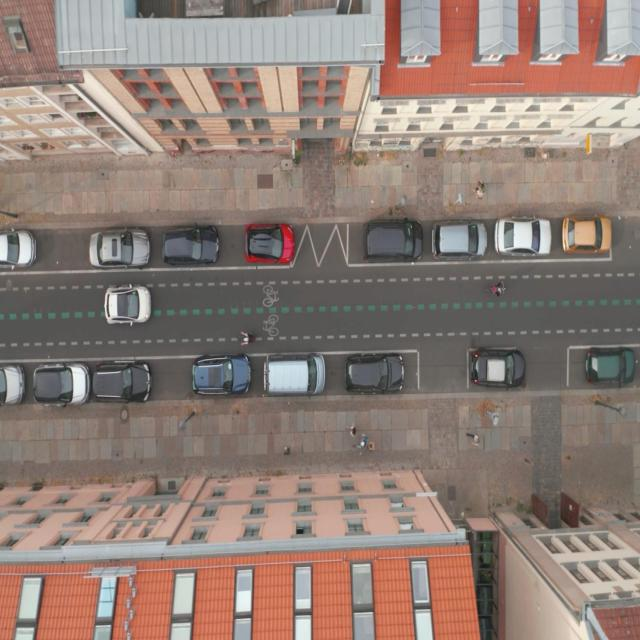Car: (190, 352, 253, 398), (344, 351, 406, 396), (160, 223, 221, 267), (431, 216, 488, 263), (88, 227, 152, 268), (92, 361, 154, 402), (493, 216, 553, 257), (32, 365, 90, 407), (470, 348, 527, 388), (562, 214, 614, 256), (244, 223, 296, 264), (584, 347, 636, 386), (103, 285, 152, 326), (0, 225, 37, 271), (0, 363, 26, 406)
Van: (362, 216, 424, 264), (263, 353, 326, 400)
